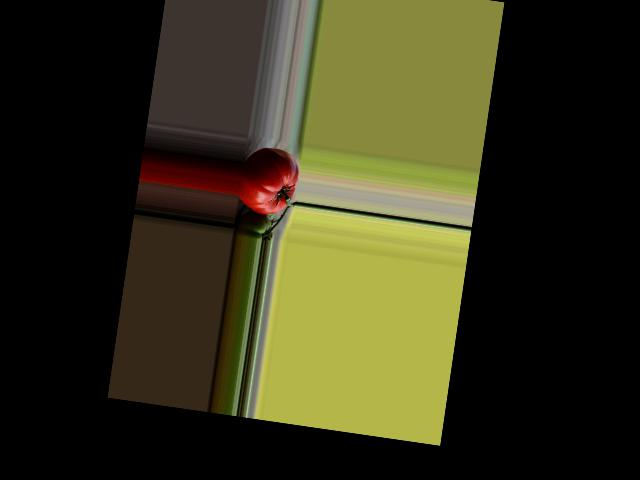tomato: (235, 143, 301, 217)
